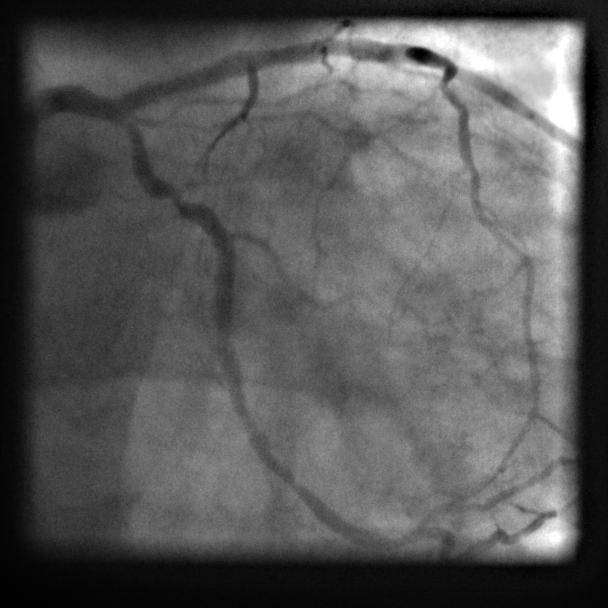Stenosis: (165, 186, 186, 215)
